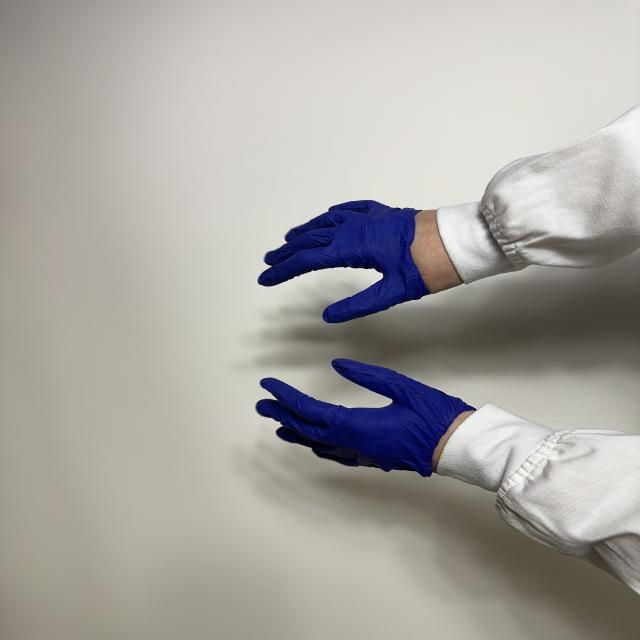glove_not_fitted: (254, 356, 478, 478), (257, 198, 472, 324)
